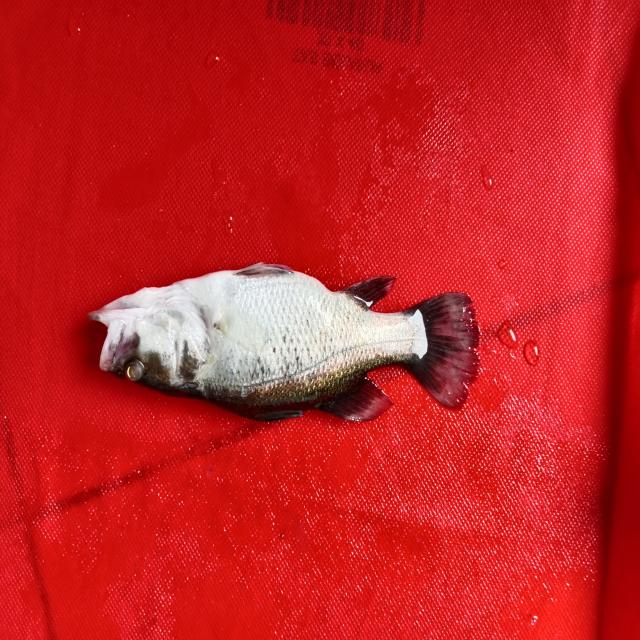ikan: (80, 233, 508, 450)
